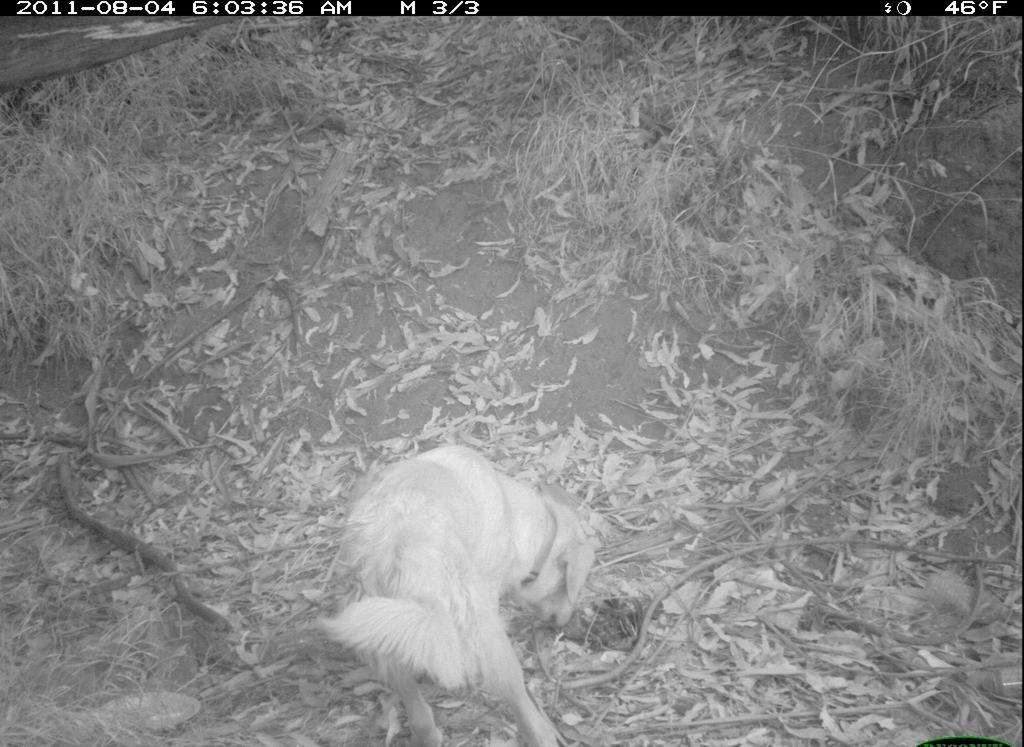dog: (309, 442, 606, 745)
